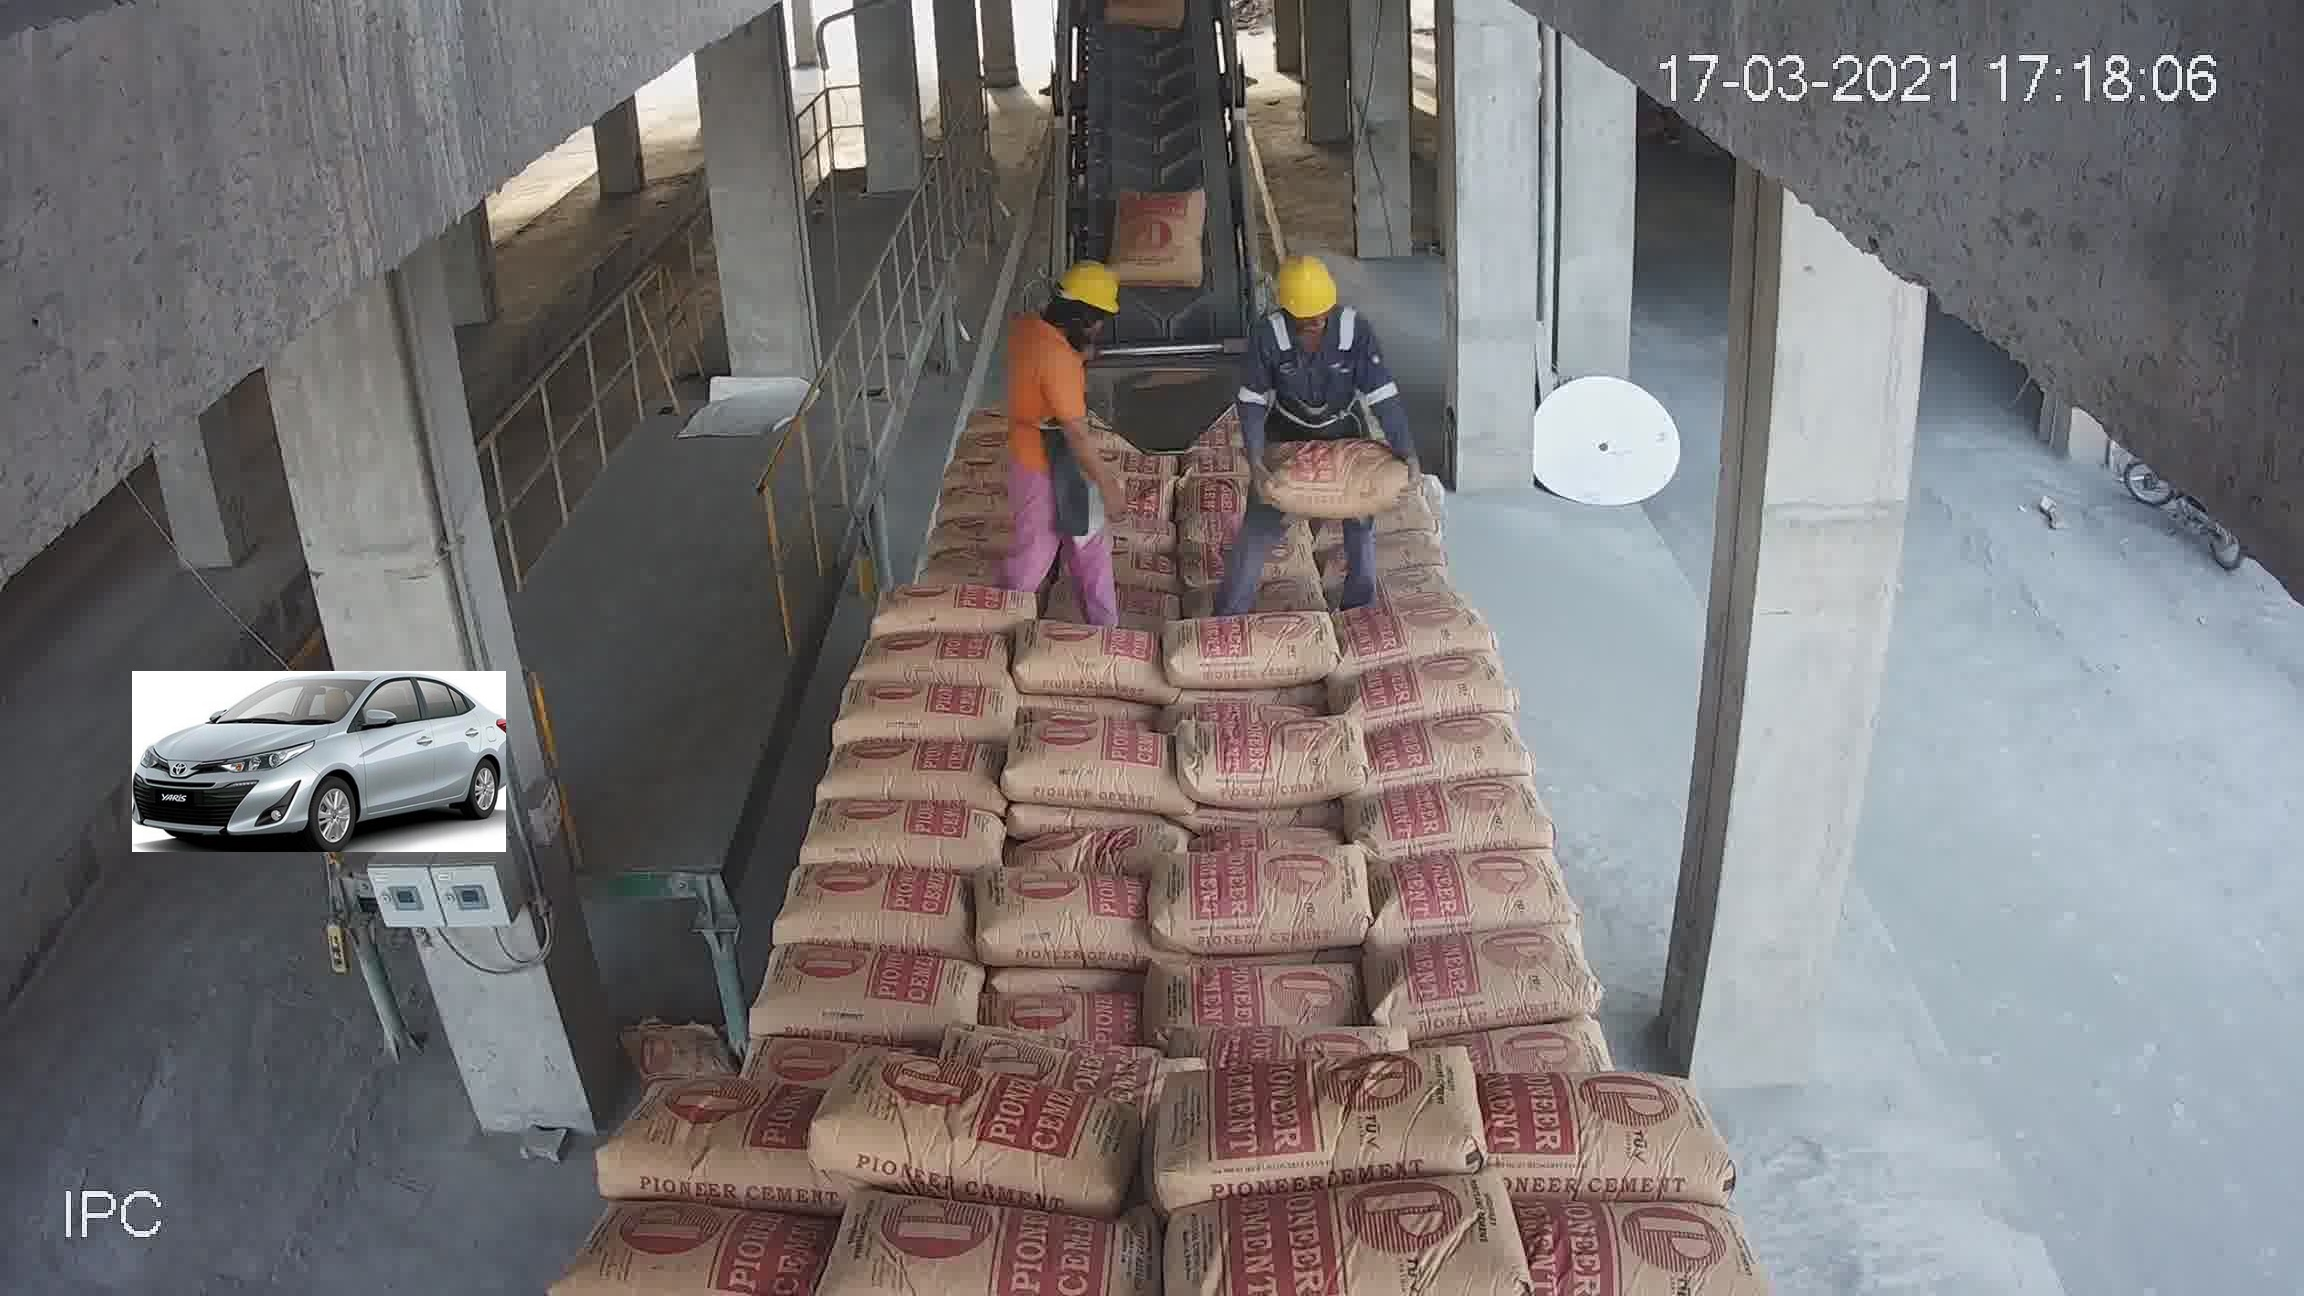bag: (1112, 187, 1207, 286)
bag_h: (1147, 1043, 1494, 1204), (796, 1065, 1114, 1207), (1161, 1174, 1518, 1293), (1470, 1052, 1736, 1190), (799, 1188, 1127, 1290), (1494, 1174, 1741, 1290), (597, 1086, 820, 1212), (1377, 919, 1600, 1033), (565, 1185, 832, 1279), (1150, 954, 1374, 1060), (1158, 851, 1385, 951), (755, 946, 983, 1043), (1361, 840, 1575, 938), (771, 862, 980, 957), (975, 862, 1154, 972), (1176, 717, 1367, 817), (1003, 718, 1185, 810), (1165, 611, 1342, 701), (812, 733, 1016, 809), (1356, 703, 1532, 786), (1348, 780, 1551, 851), (802, 802, 1013, 870), (1010, 617, 1166, 707), (1264, 424, 1407, 513), (836, 680, 1021, 747), (984, 980, 1158, 1044), (1332, 597, 1487, 669), (1027, 823, 1196, 888), (856, 623, 1017, 692), (1351, 654, 1510, 720), (870, 578, 1030, 638), (900, 532, 1006, 590), (929, 465, 1006, 524), (935, 506, 1014, 554)
belt: (1032, 32, 1268, 408)
